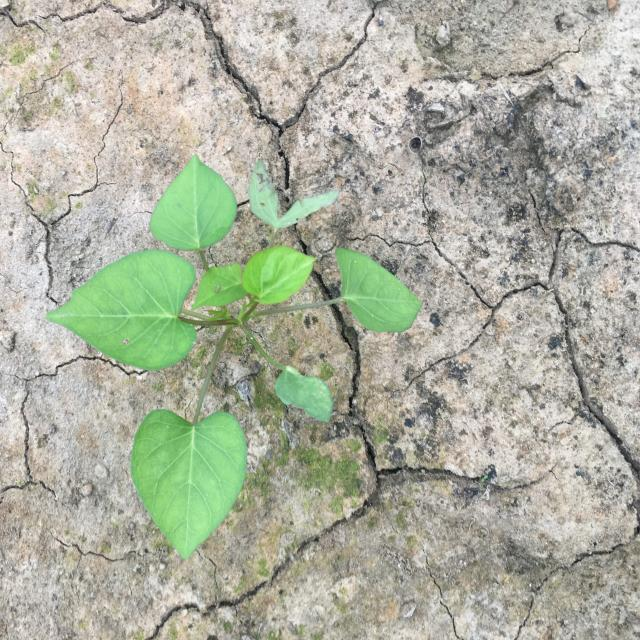MorningGlory: (44, 155, 423, 560)
